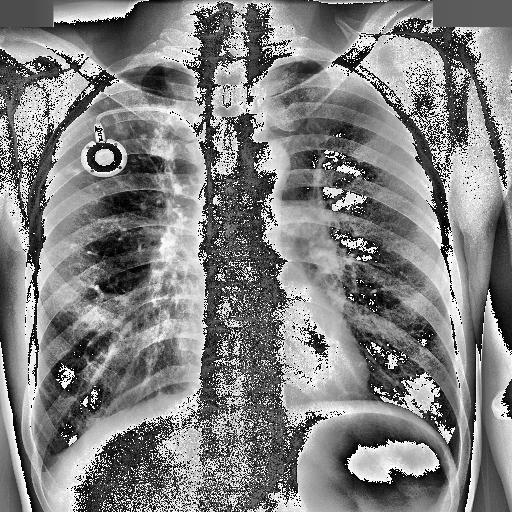11- Pleural thickening: (30, 456, 58, 490), (36, 452, 56, 490)
13- Pulmonary fibrosis: (64, 102, 186, 256), (54, 104, 184, 218), (68, 113, 182, 210)
7- Lung Opacity: (270, 208, 324, 236)
